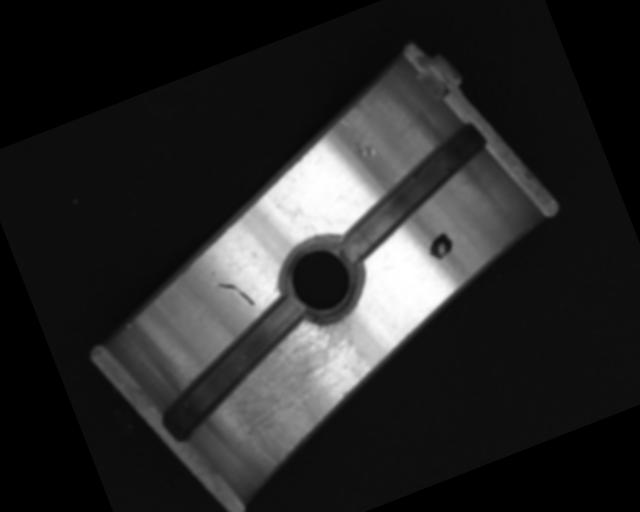blot: (423, 230, 457, 263)
bruise: (347, 130, 382, 164)
gap: (136, 289, 334, 444), (319, 122, 508, 264)
hole: (270, 229, 373, 332)
nick: (215, 273, 256, 318)
scratch: (201, 299, 395, 477)
